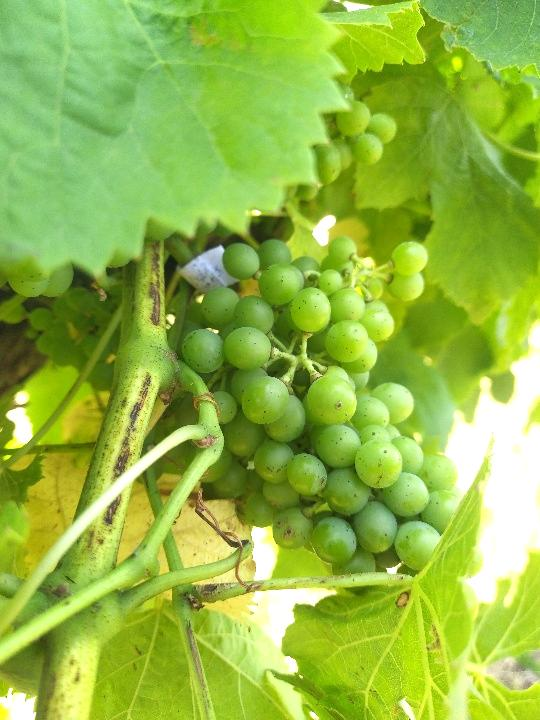grape: (153, 238, 484, 618)
